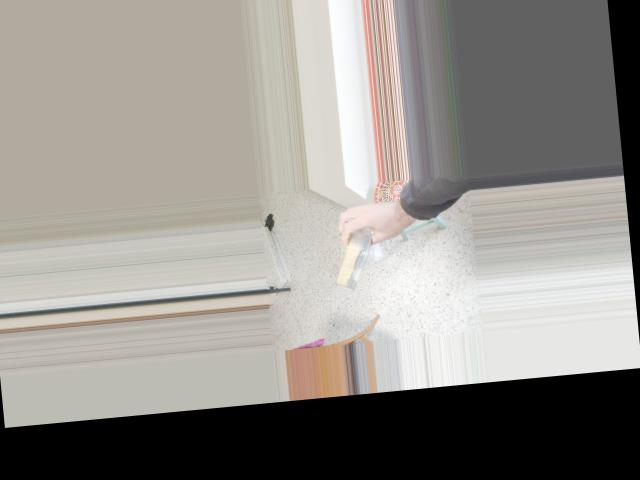cheese: (307, 195, 393, 297)
